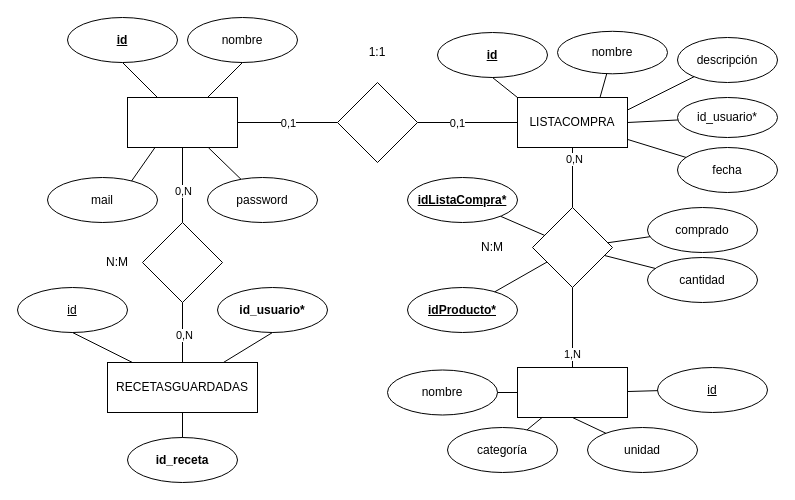
This 795x500 diagram has some shape labels left out. The centre of each missing label's shape, as x and y in pixels:
ALMACENA: the point at 182,262
CONTIENE: the point at 572,247
PRODUCTO: the point at 572,392
TIENE: the point at 377,122
USUARIO: the point at 182,122
